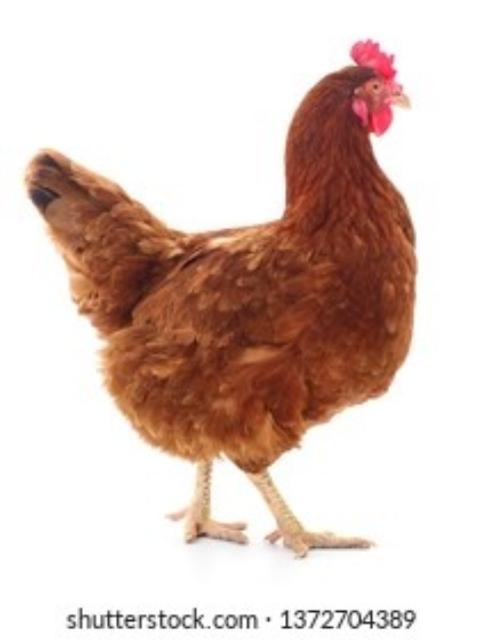Chicken: (25, 41, 417, 559)
